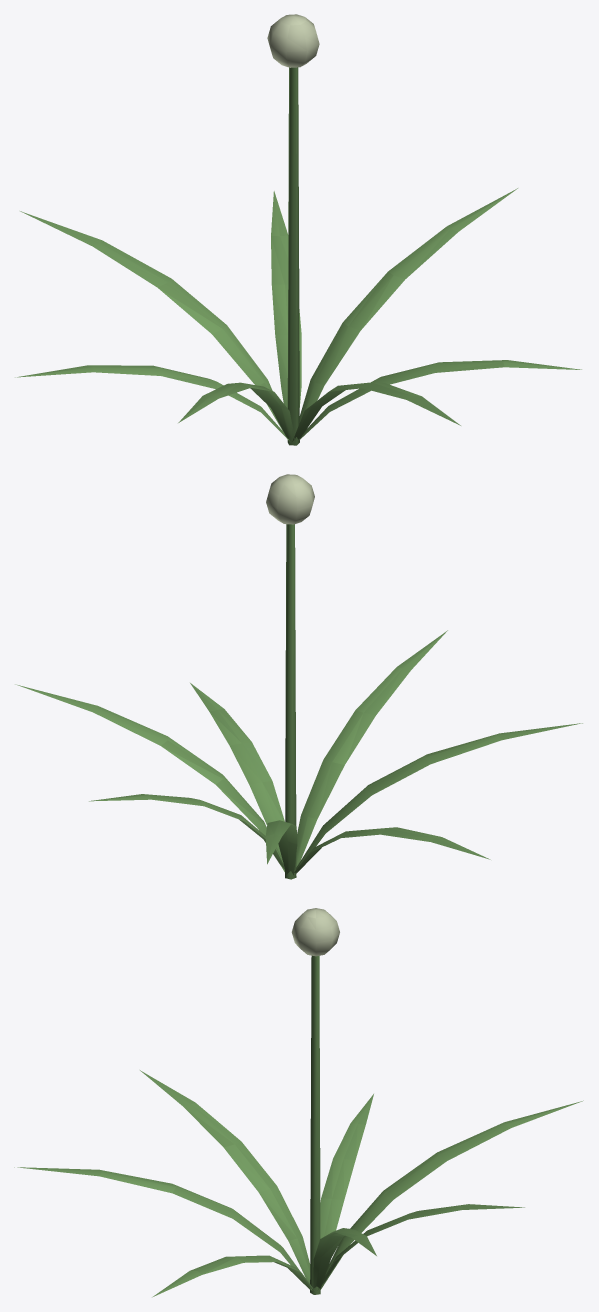
Rendered from crop-garlic-flowering.glb.
3 views of the same model, one above another, from view 1: azimuth 30°, elevation 25°; view 2: azimuth 150°, elevation 25°; view 3: azimuth 270°, elevation 25° (orthographic). The views are drawn at different scales.
Visible parts, largest first — view 1: crop-garlic-flowering-kit; view 2: crop-garlic-flowering-kit; view 3: crop-garlic-flowering-kit.
Part boxes in pixels (x1,y1,x2,y2): crop-garlic-flowering-kit: (15,14,581,445); crop-garlic-flowering-kit: (15,474,582,879); crop-garlic-flowering-kit: (14,908,583,1297).
Bounding box in the file's own units: 1.08 × 0.8711 × 1.18.
